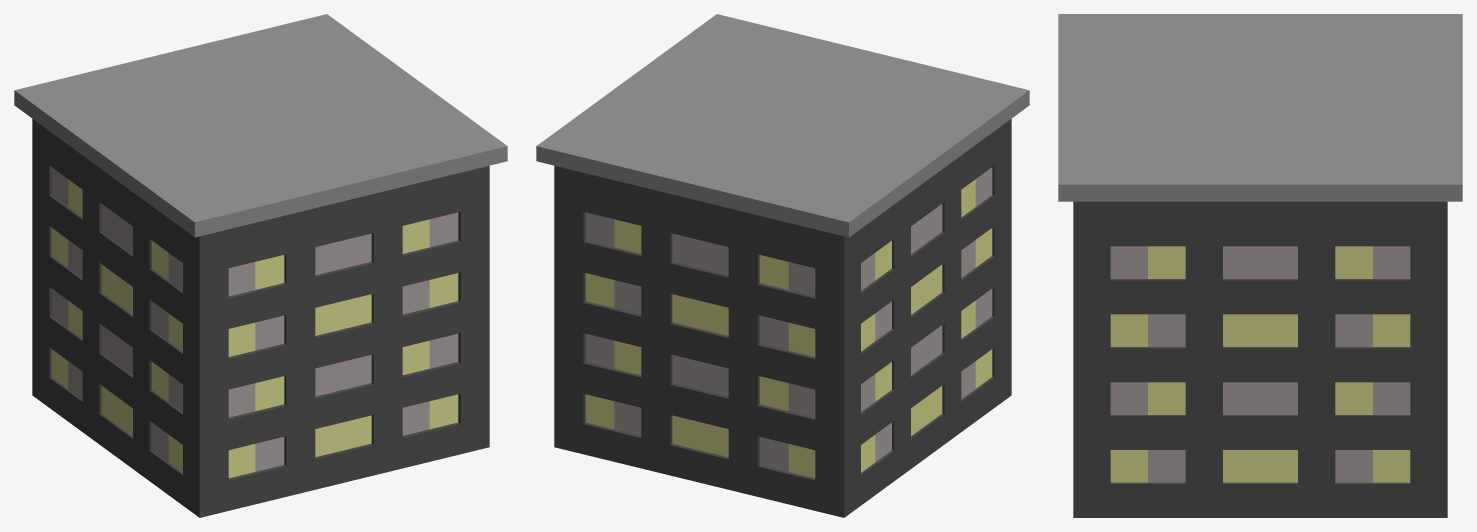
Rendered from building.fbx.
3 views of the same model, side by side, from view 1: azimuth 30°, elevation 25°; view 2: azimuth 150°, elevation 25°; view 3: azimuth 270°, elevation 25° (orthographic). The views are drawn at different scales.
Visible parts, largest first — view 1: Building; view 2: Building; view 3: Building.
Boxes of the visible parts, x1=… form: Building: x1=14, y1=14, x2=507, y2=517; Building: x1=536, y1=14, x2=1029, y2=517; Building: x1=1058, y1=14, x2=1462, y2=517.
Size of the model in its own units: 3237 by 3000 by 3237.
